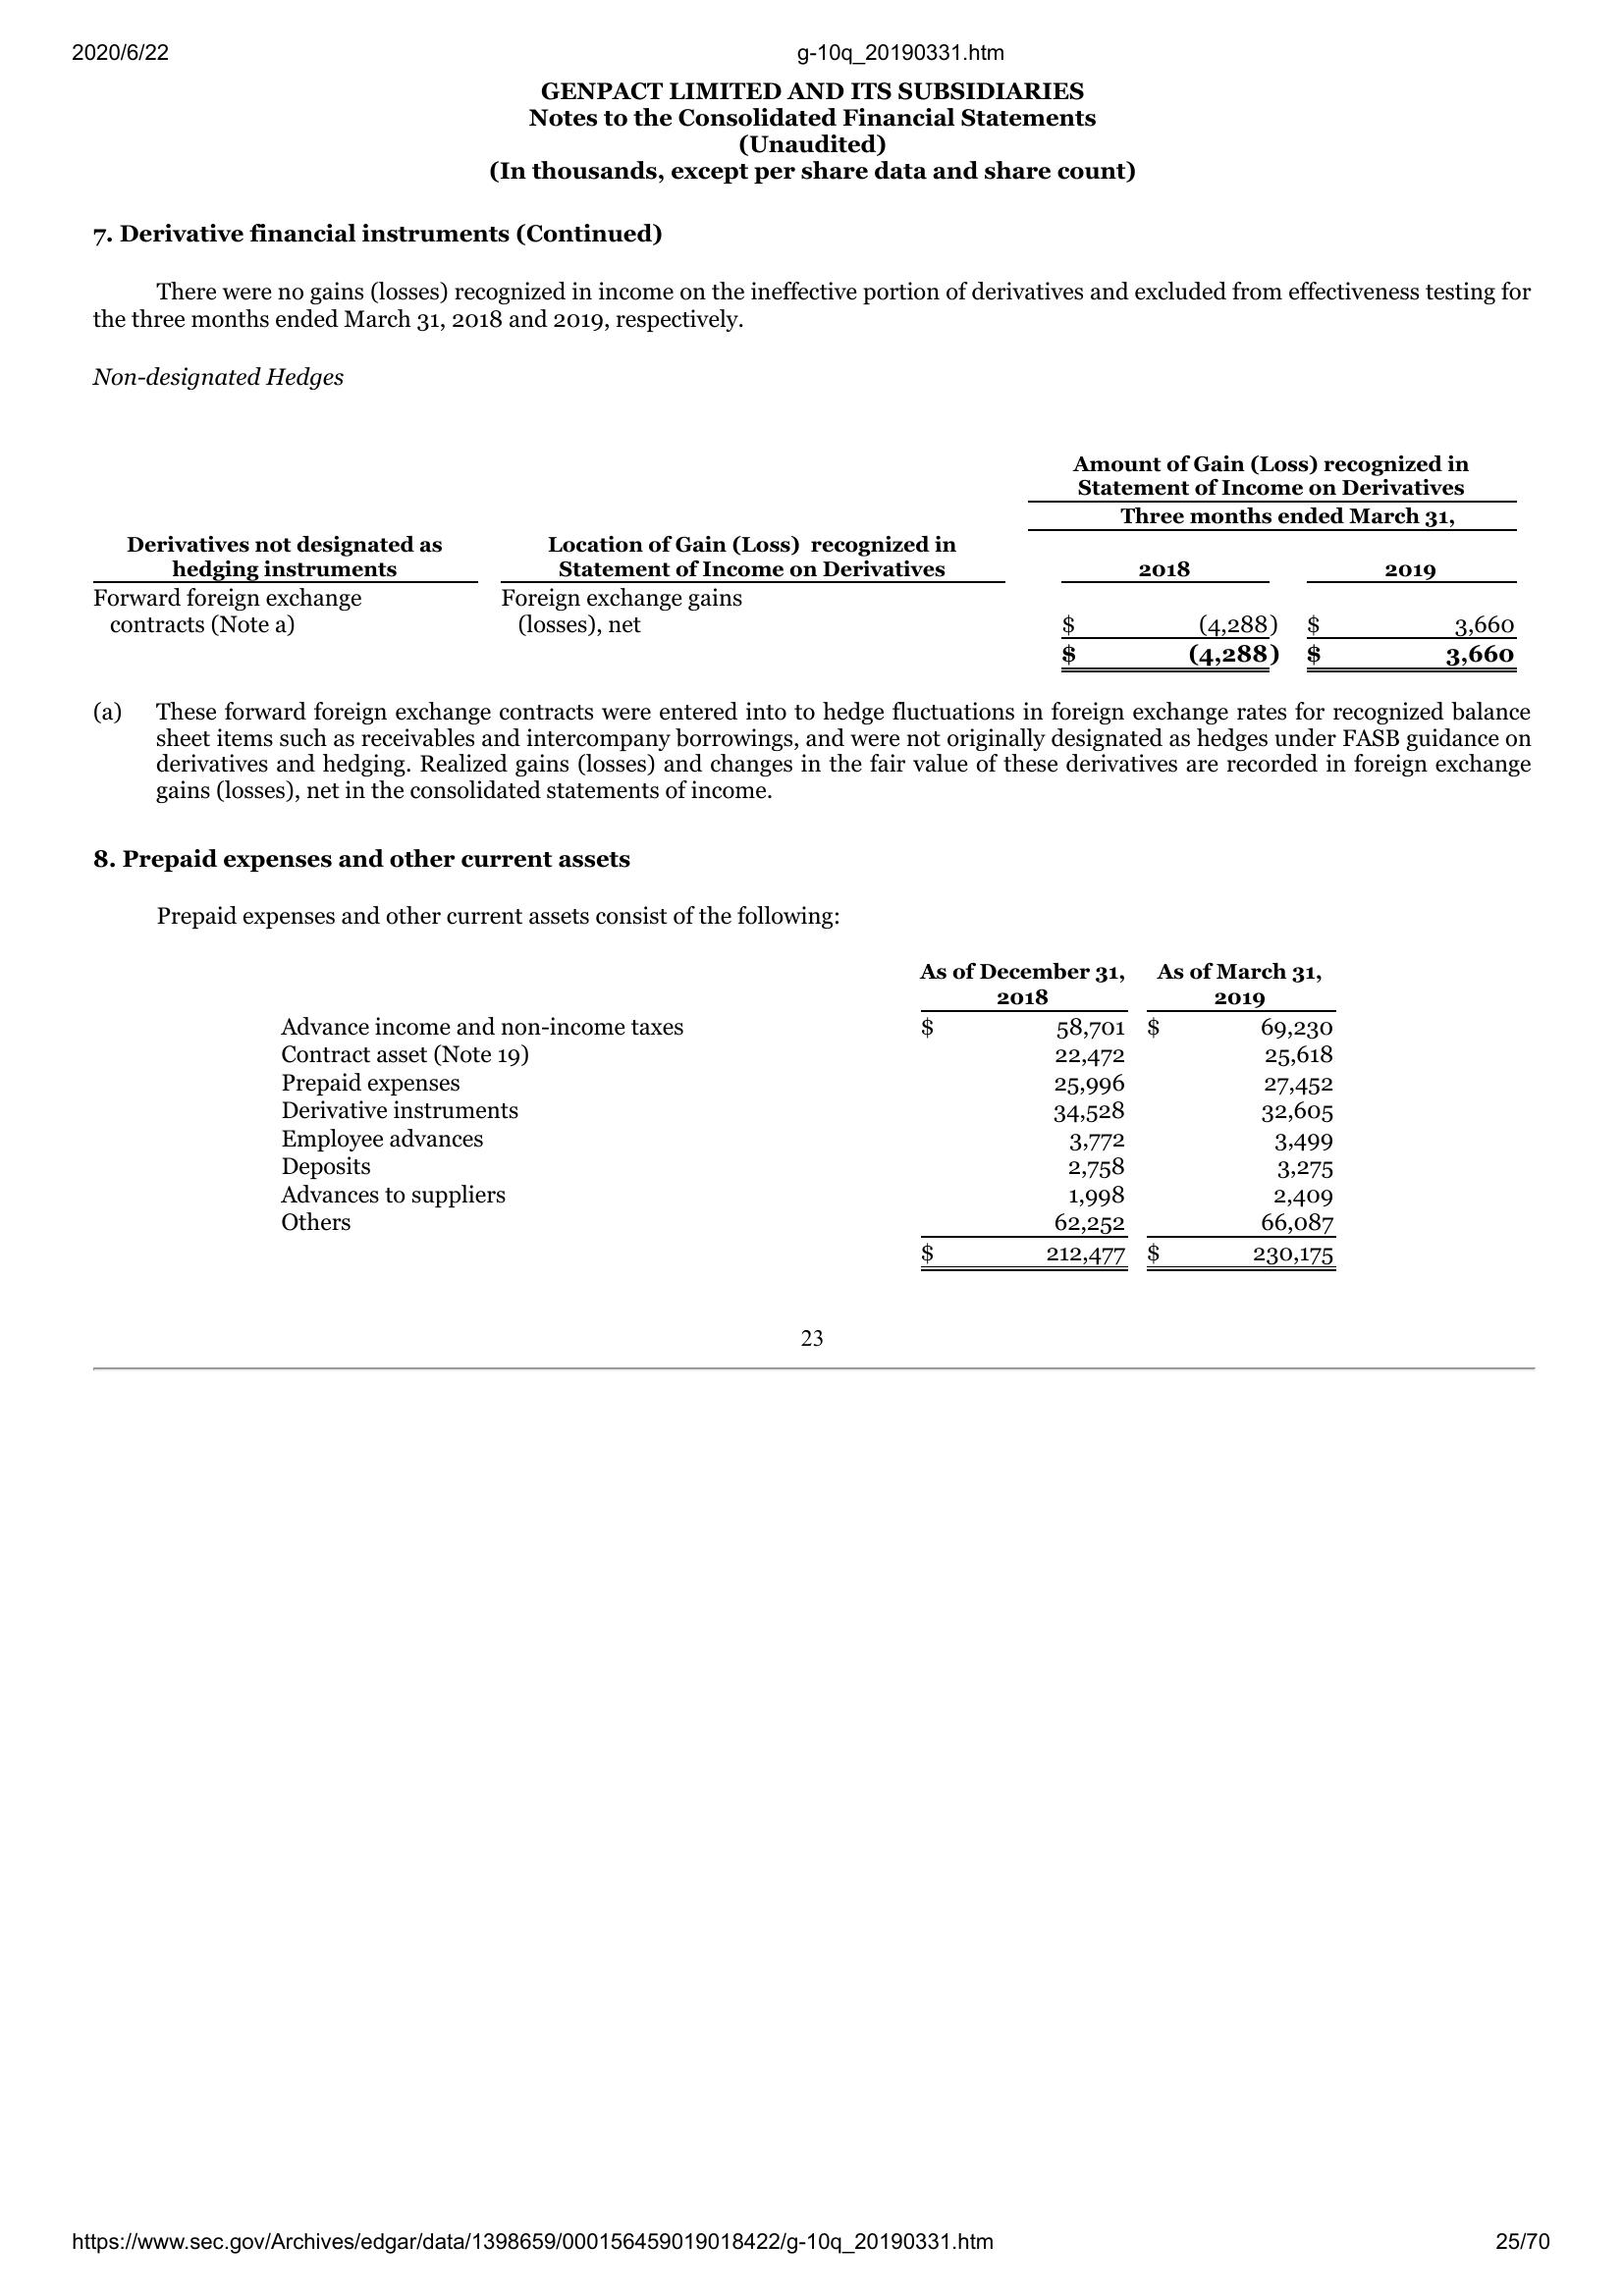table: (270, 951, 1342, 1278), (88, 446, 1526, 681)
